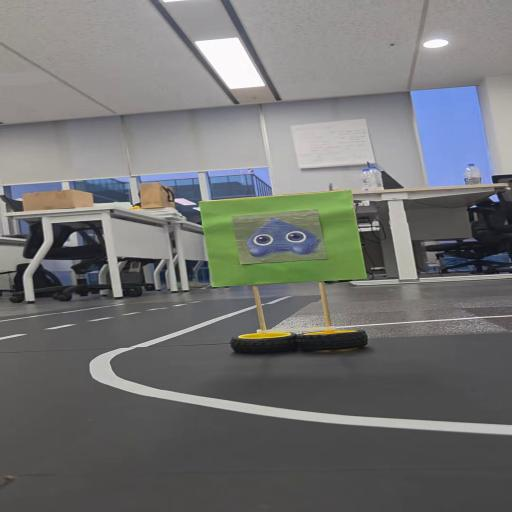Sign_B: (193, 186, 391, 360)
